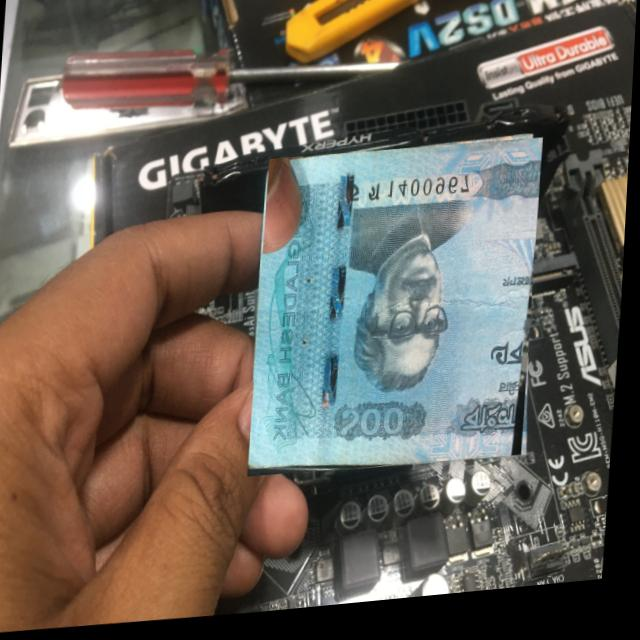Taka: (252, 144, 544, 486)
